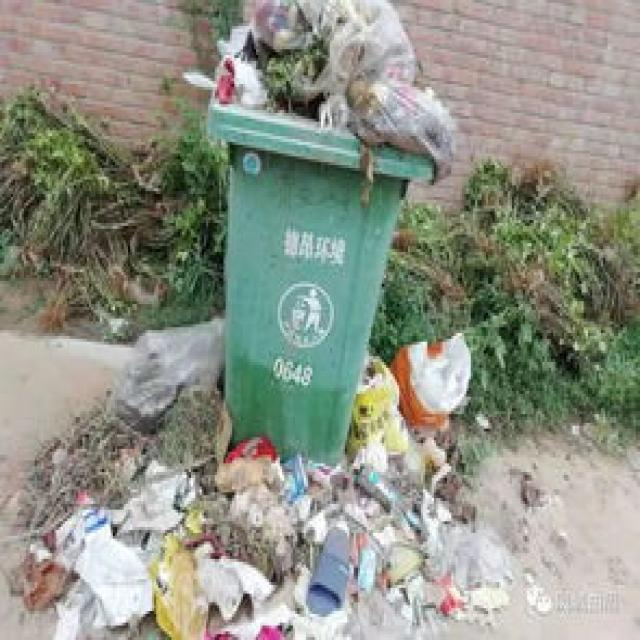garbage: (6, 316, 468, 637)
overflow: (180, 0, 451, 463)
